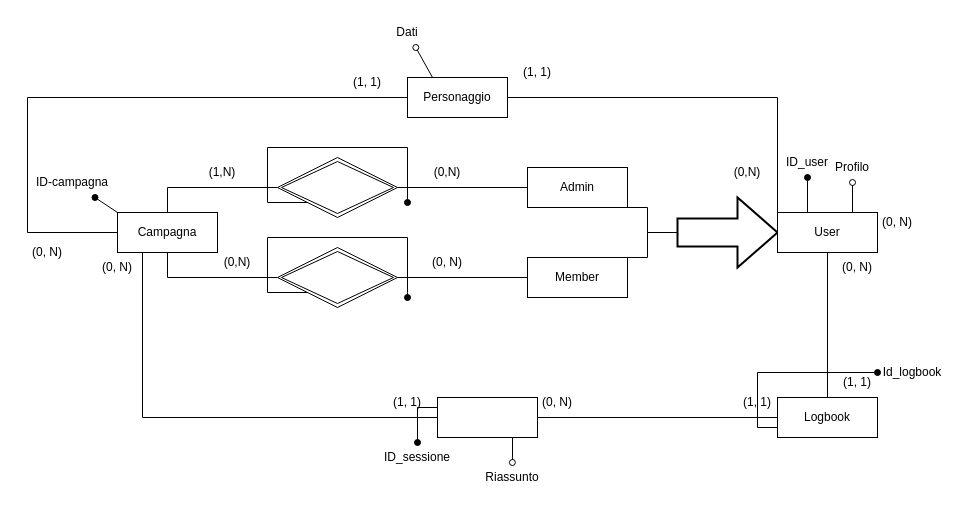
Image size: 964x509. Some labels were removed from this diagram. The box of each missing label's shape, as (x1, y1, x2, y2) in pixels:
Amministrazione: (276, 156, 398, 218)
Partecipa: (276, 246, 398, 308)
Sessioni: (436, 396, 538, 438)
